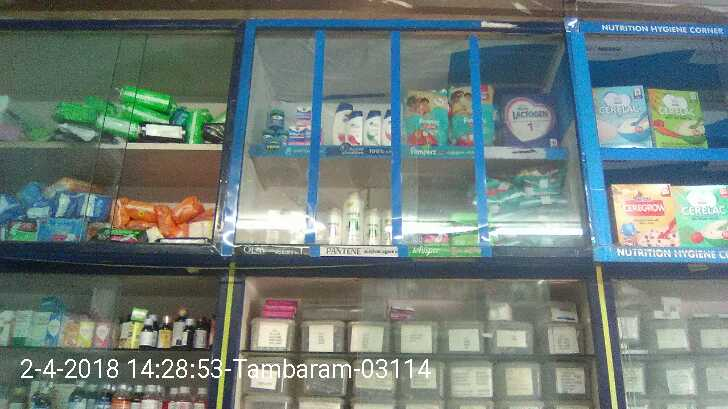vicks: (261, 101, 313, 145)
